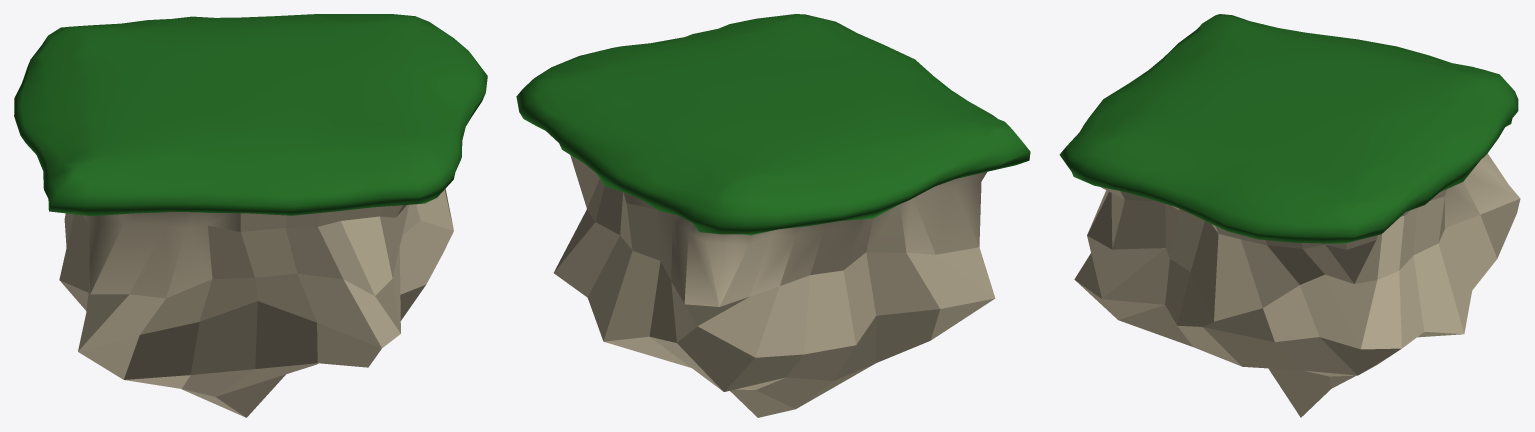
File: SM_MiniIsland4.fbx
3 renders of one model, left to right at view 1: azimuth 30°, elevation 25°; view 2: azimuth 150°, elevation 25°; view 3: azimuth 270°, elevation 25°, orthographic. The views are drawn at different scales.
Visible parts, largest first — view 1: SM_MiniIsland5; view 2: SM_MiniIsland5; view 3: SM_MiniIsland5.
Boxes of the visible parts, left/top/right/bottom form: SM_MiniIsland5: left=14, top=14, right=487, bottom=417; SM_MiniIsland5: left=516, top=14, right=1030, bottom=417; SM_MiniIsland5: left=1059, top=14, right=1520, bottom=417.
Bounding box in the file's own units: 10.16 × 7.04 × 9.33.
